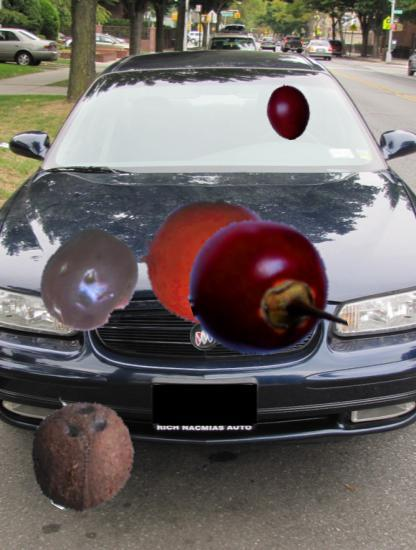Avocado: (195, 280, 249, 334)
Cocos: (25, 400, 138, 513)
Passion: (36, 228, 142, 334)
Pitahaya: (234, 224, 291, 281)
Pomegranate: (137, 190, 281, 334)
Tamarillo: (188, 214, 332, 358), (258, 80, 319, 141)
